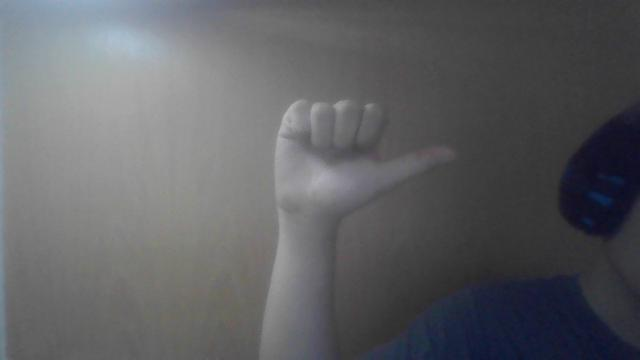left: (270, 89, 470, 221)
